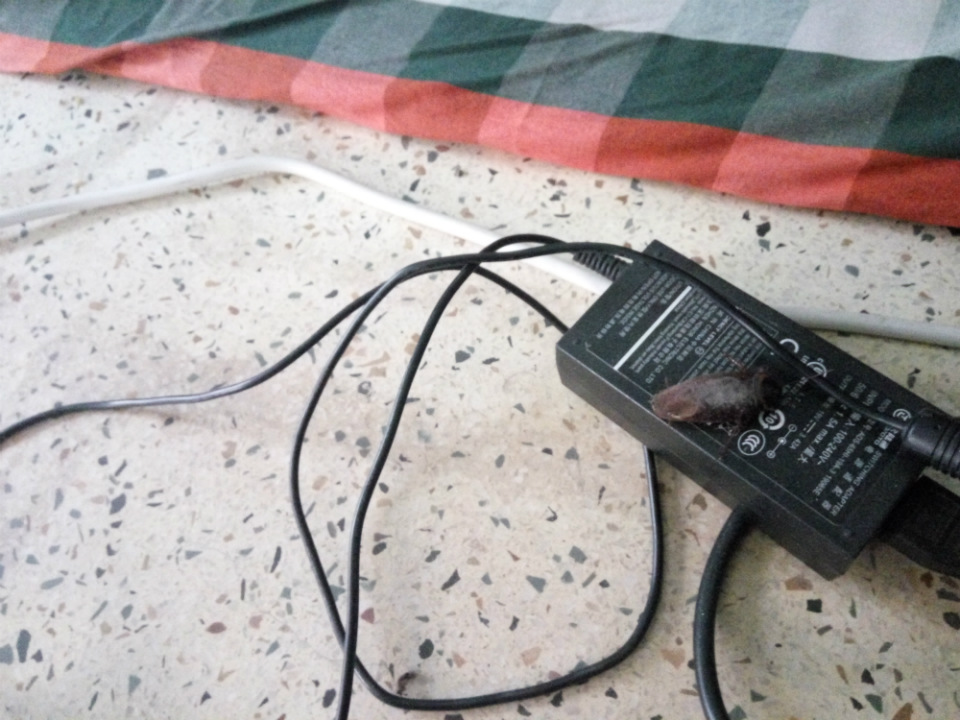cockroach: (587, 339, 811, 440)
